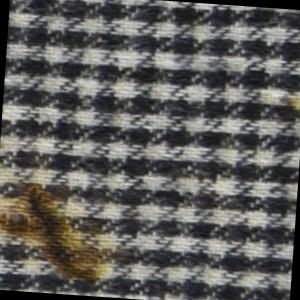Damage: (1, 186, 115, 269)
Oil Stain: (1, 178, 122, 288)
Stain: (261, 93, 300, 123)
